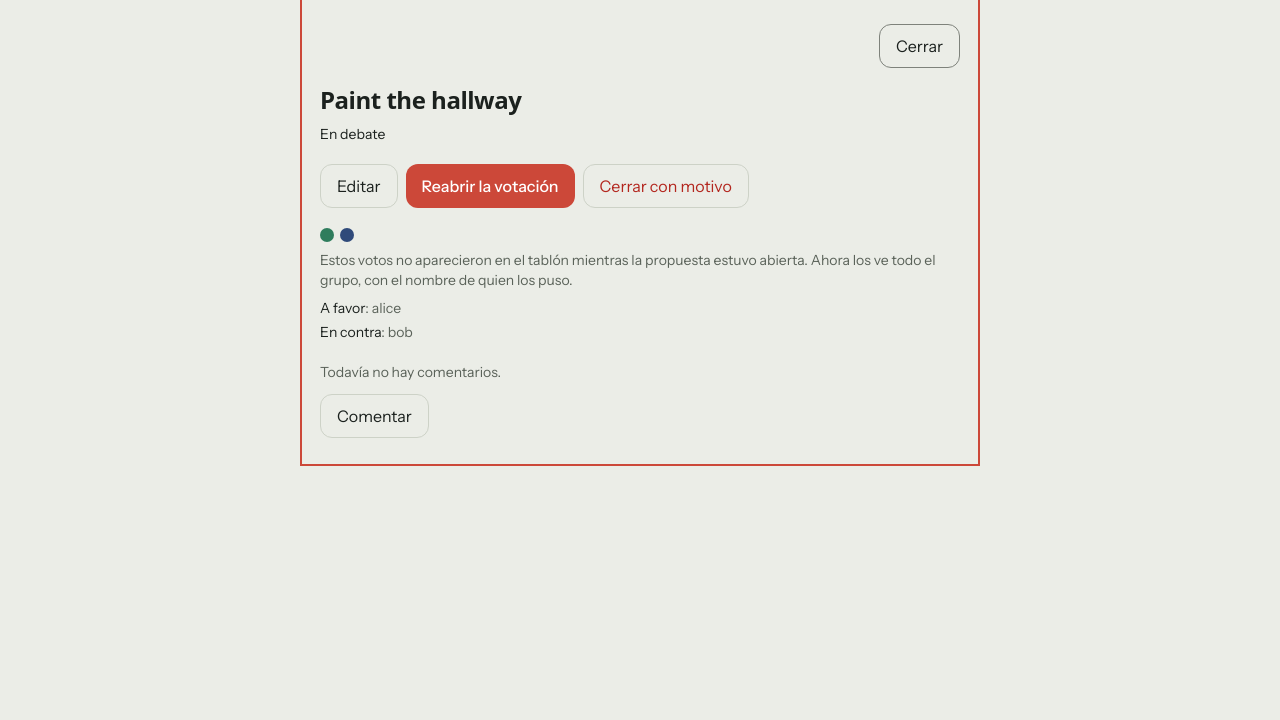
Test: BoardPage › refuses to send a closing reason under ten characters
The width and height of the screenshot is (1280, 720).
Click the button "Cerrar con motivo": (666, 186) [582, 164, 749, 208]
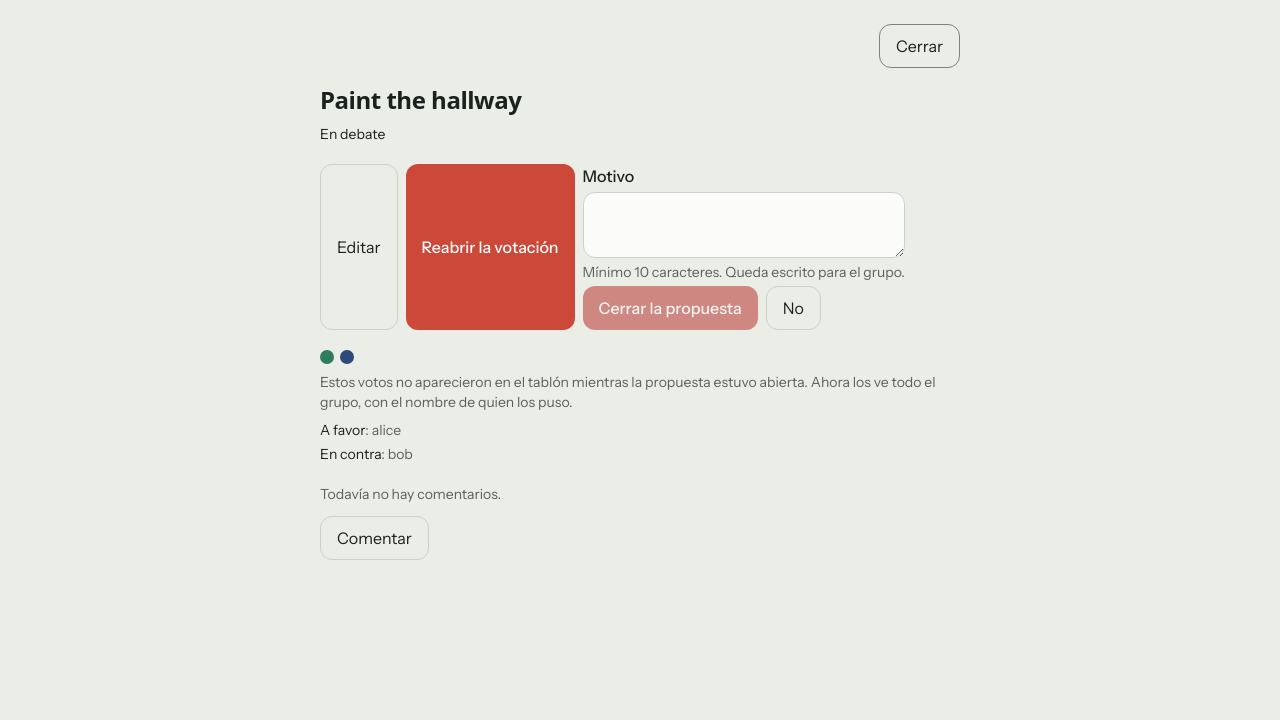
In the text box labelled "Motivo": (744, 225) [582, 192, 905, 258], type "no vale"
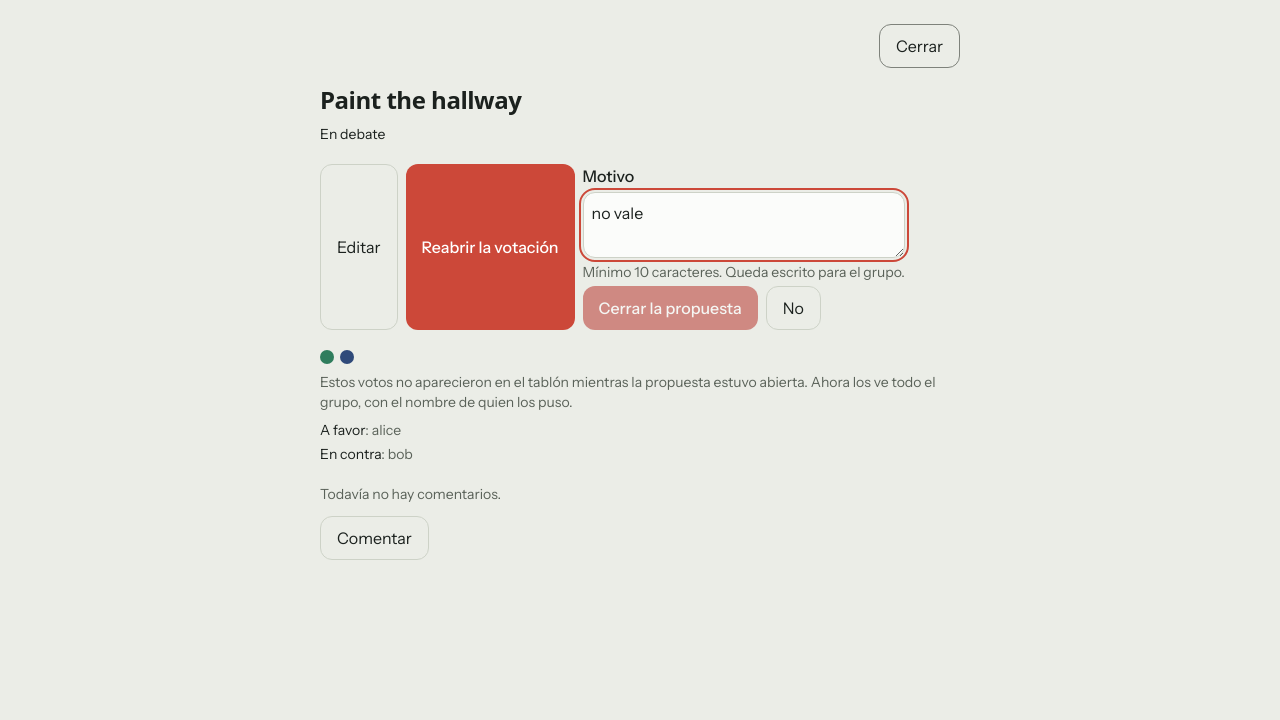
Expected: the button "Cerrar la propuesta" is disabled, [582, 286, 758, 330]
In the text box labelled "Motivo": (744, 225) [582, 192, 905, 258], type " porque lo hablamos en persona"
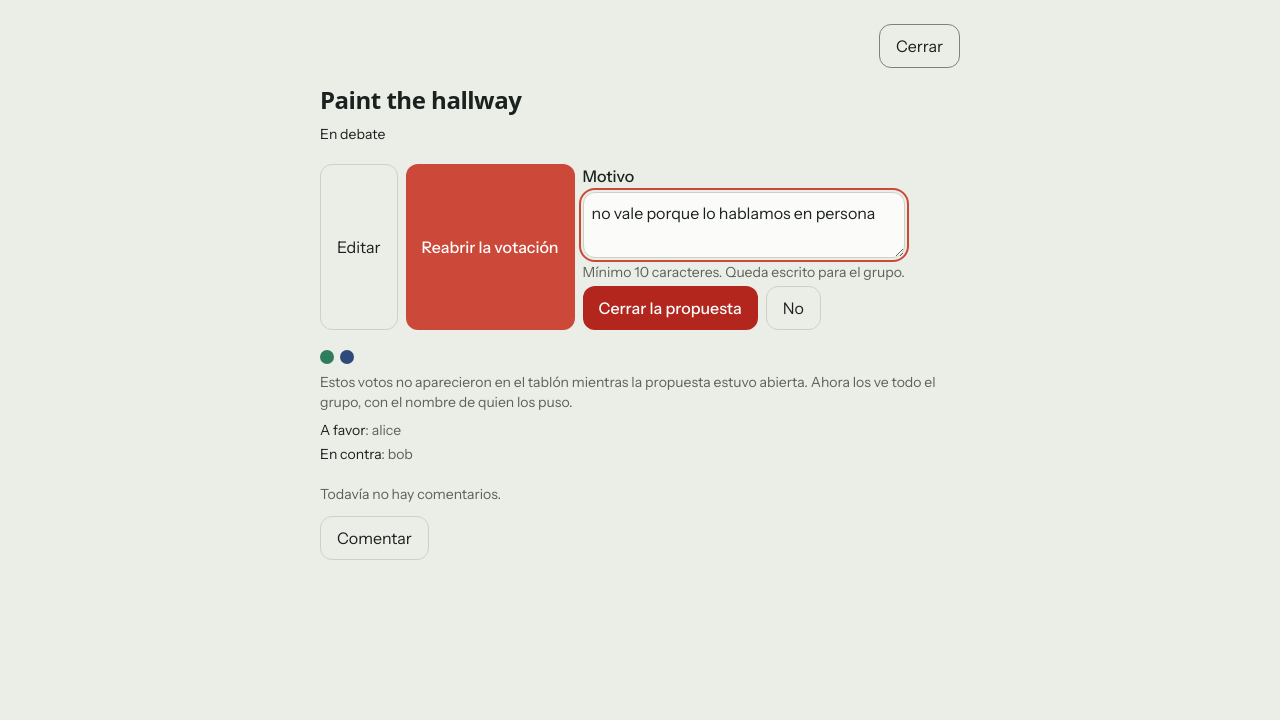
Expected: the button "Cerrar la propuesta" is enabled, [582, 286, 758, 330]
